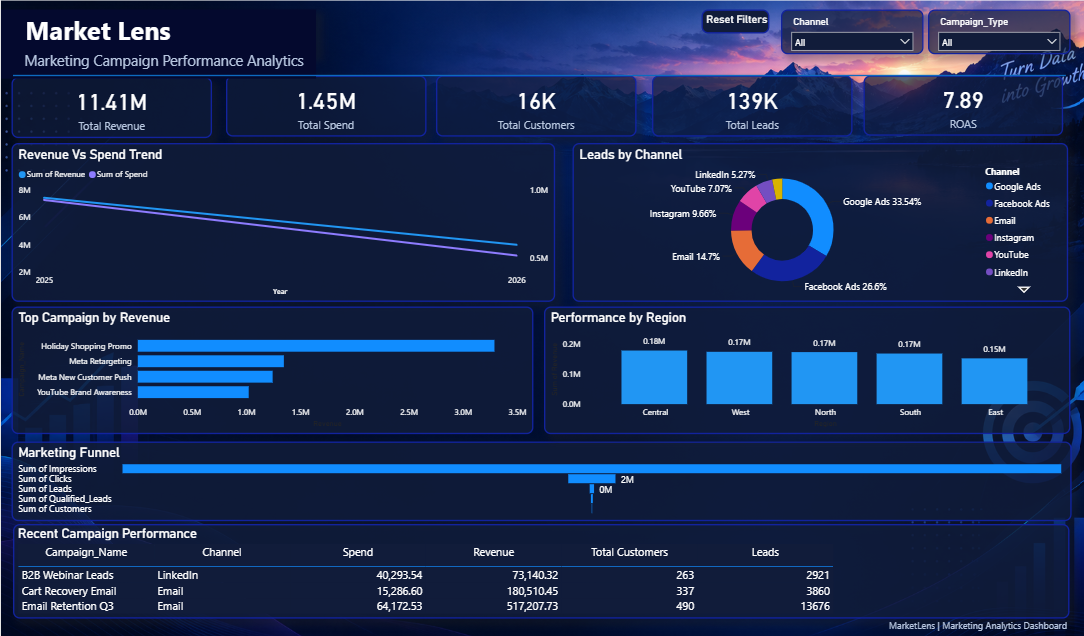

What the dashboard file says about the page in this screenshot:
{"tool":"powerbi","page":{"name":"Exclusive Overview","canvas":[1600,1000],"ordinal":0},"visuals":[{"type":"card","fields":{"Values":["Sum(marketlens campaign_performance.Revenue)"]},"box":[16.5,137,295.3,89.8],"z":0},{"type":"card","fields":{"Values":["Sum(marketlens campaign_performance.Spend)"]},"box":[331.5,135.4,295,90],"z":1000},{"type":"card","fields":{"Values":["Sum(marketlens campaign_performance.Customers)"]},"box":[640.9,135.4,295.3,89.8],"z":2000},{"type":"card","fields":{"Values":["Sum(marketlens campaign_performance.Leads)"]},"box":[959.8,135.4,295.3,89.8],"z":3000},{"type":"card","fields":{"Values":["campaign_performance.ROAS"]},"box":[1270.3,134.8,293.8,88.4],"z":4000},{"type":"lineChart","title":"Revenue Vs Spend Trend ","fields":{"Category":["campaign_performance.Start_Date.Variation.Date Hierarchy.Year","campaign_performance.Start_Date.Variation.Date Hierarchy.Quarter","campaign_performance.Start_Date.Variation.Date Hierarchy.Month","campaign_performance.Start_Date.Variation.Date Hierarchy.Day"],"Y":["Sum(campaign_performance.Revenue)"],"Y2":["Sum(campaign_performance.Spend)"]},"box":[16.5,233.9,800.8,233.9],"z":5000},{"type":"donutChart","title":"Leads by Channel","fields":{"Category":["campaign_performance.Channel"],"Y":["Sum(campaign_performance.Leads)"]},"box":[841,233.9,729.9,233.9],"z":6000},{"type":"clusteredBarChart","title":"Top Campaign by Revenue","fields":{"Category":["campaign_performance.Campaign_Name"],"Y":["Sum(campaign_performance.Revenue)"]},"box":[15.5,475,768.8,187.8],"z":7000},{"type":"funnel","title":"Marketing Funnel","fields":{"Y":["Sum(campaign_performance.Impressions)","Sum(campaign_performance.Clicks)","Sum(campaign_performance.Leads)","Sum(campaign_performance.Qualified_Leads)","Sum(campaign_performance.Customers)"]},"box":[14.9,674.7,1561,117],"z":8000},{"type":"clusteredColumnChart","title":"Performance by Region","fields":{"Category":["marketlens leads_customers.Region"],"Y":["Sum(marketlens leads_customers.Revenue)"]},"box":[799.7,475,775.4,187.8],"z":9000},{"type":"tableEx","title":"Recent Campaign Performance","fields":{"Values":["campaign_performance.Campaign_Name","campaign_performance.Channel","Sum(campaign_performance.Spend)","Sum(campaign_performance.Revenue)","Sum(campaign_performance.Customers)","Sum(campaign_performance.Leads)"]},"box":[17.4,795,1556,139.4],"z":10000},{"type":"slicer","fields":{"Values":["campaign_performance.Channel"]},"box":[1148.8,37.6,209.9,66.3],"z":11000},{"type":"slicer","fields":{"Values":["campaign_performance.Campaign_Type"]},"box":[1365.3,37.6,209.9,66.3],"z":12000},{"type":"actionButton","title":"Reset Filters","box":[1031.7,37.6,100,35],"z":13000},{"type":"textbox","box":[0,37.6,463.9,66.3],"z":14000},{"type":"textbox","box":[0,92.8,463.9,46.4],"z":15000},{"type":"shape","box":[17.7,103.8,1550.8,61.9],"z":16000},{"type":"textbox","box":[99.4,930.1,1475.7,35.3],"z":17000}]}

Visuals, with their boxes on the page's 1600x1000 design canvas (x1, y1, x2, y2). These are canvas units, not pixel positions in the 1084x636 screenshot, which may show the page scaled, cropped or inside an application window:
card - Sum(marketlens campaign_performance.Revenue): pyautogui.locateOnScreen(16, 137, 312, 227)
card - Sum(marketlens campaign_performance.Spend): pyautogui.locateOnScreen(332, 135, 626, 225)
card - Sum(marketlens campaign_performance.Customers): pyautogui.locateOnScreen(641, 135, 936, 225)
card - Sum(marketlens campaign_performance.Leads): pyautogui.locateOnScreen(960, 135, 1255, 225)
card - campaign_performance.ROAS: pyautogui.locateOnScreen(1270, 135, 1564, 223)
"Revenue Vs Spend Trend " lineChart: pyautogui.locateOnScreen(16, 234, 817, 468)
"Leads by Channel" donutChart: pyautogui.locateOnScreen(841, 234, 1571, 468)
"Top Campaign by Revenue" clusteredBarChart: pyautogui.locateOnScreen(16, 475, 784, 663)
"Marketing Funnel" funnel: pyautogui.locateOnScreen(15, 675, 1576, 792)
"Performance by Region" clusteredColumnChart: pyautogui.locateOnScreen(800, 475, 1575, 663)
"Recent Campaign Performance" tableEx: pyautogui.locateOnScreen(17, 795, 1573, 934)
slicer - campaign_performance.Channel: pyautogui.locateOnScreen(1149, 38, 1359, 104)
slicer - campaign_performance.Campaign_Type: pyautogui.locateOnScreen(1365, 38, 1575, 104)
"Reset Filters" actionButton: pyautogui.locateOnScreen(1032, 38, 1132, 73)
textbox: pyautogui.locateOnScreen(0, 38, 464, 104)
textbox: pyautogui.locateOnScreen(0, 93, 464, 139)
shape: pyautogui.locateOnScreen(18, 104, 1568, 166)
textbox: pyautogui.locateOnScreen(99, 930, 1575, 965)
